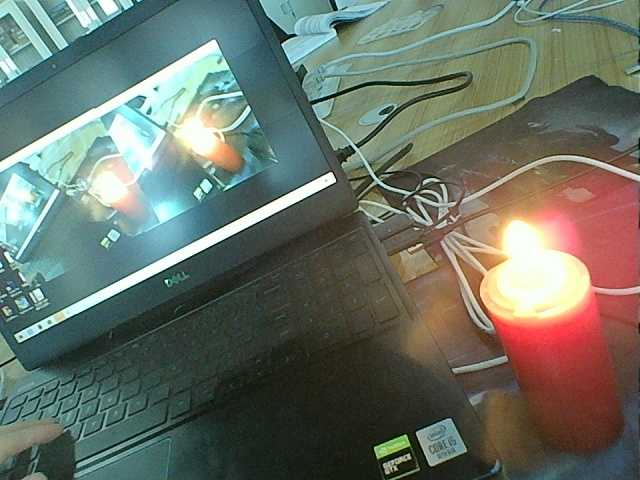candle: (470, 264, 628, 450), (201, 149, 247, 177), (109, 193, 141, 225)
fire: (489, 212, 574, 309), (177, 112, 214, 156), (98, 169, 119, 205)
